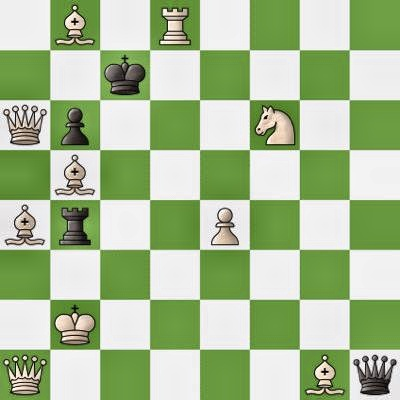black-king: (100, 50, 150, 100)
black-pawn: (50, 100, 100, 150)
black-queen: (350, 350, 400, 400)
black-rook: (50, 200, 100, 250)
white-bishop: (50, 0, 100, 50), (50, 150, 100, 200), (0, 200, 50, 250), (300, 350, 350, 400)
white-king: (50, 300, 100, 350)
white-knight: (250, 100, 300, 150)
white-pawn: (200, 200, 250, 250)
white-queen: (0, 100, 50, 150), (0, 350, 50, 400)
white-rook: (150, 0, 200, 50)
